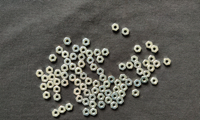nut: (36, 70, 44, 78), (41, 75, 49, 83), (43, 92, 51, 100), (47, 81, 55, 89), (61, 79, 69, 87), (64, 58, 72, 66), (69, 74, 77, 82), (69, 63, 77, 71), (72, 45, 80, 53), (85, 78, 93, 86), (122, 28, 130, 36), (108, 76, 116, 84), (105, 97, 113, 105), (120, 84, 128, 92), (119, 63, 127, 71), (134, 80, 142, 88), (134, 45, 142, 53), (146, 41, 154, 49), (151, 45, 159, 53), (164, 58, 172, 66), (40, 84, 48, 91), (46, 67, 54, 74), (48, 74, 56, 81), (49, 55, 57, 62), (56, 46, 63, 54), (53, 94, 61, 101), (52, 110, 60, 117), (59, 106, 66, 114), (54, 86, 61, 94), (53, 79, 61, 86), (54, 70, 62, 77), (64, 38, 72, 45), (61, 72, 69, 79), (61, 65, 69, 72), (62, 51, 69, 59), (70, 53, 78, 60), (90, 109, 98, 116), (76, 96, 84, 103), (74, 88, 81, 96), (75, 79, 82, 87), (75, 68, 83, 75), (78, 61, 86, 68), (78, 54, 86, 61), (80, 47, 88, 54), (83, 38, 90, 46), (80, 84, 88, 91), (80, 73, 88, 80), (84, 89, 91, 97), (89, 102, 97, 109), (89, 95, 97, 102), (90, 64, 98, 71), (87, 57, 95, 64), (86, 50, 94, 57), (98, 102, 106, 109), (97, 94, 105, 101), (94, 49, 101, 57), (102, 49, 110, 56), (97, 68, 104, 76), (103, 81, 111, 88), (111, 102, 118, 110), (112, 93, 119, 101), (117, 97, 124, 105), (113, 87, 121, 94), (126, 62, 134, 69), (132, 90, 140, 97), (141, 76, 149, 83), (131, 56, 139, 63), (137, 68, 144, 76), (151, 78, 159, 85), (148, 56, 156, 63), (154, 60, 161, 68), (66, 104, 73, 111), (83, 109, 90, 116), (83, 99, 90, 106), (92, 88, 99, 95), (93, 81, 100, 88), (99, 86, 106, 93), (97, 56, 104, 63), (112, 24, 119, 31), (100, 75, 107, 82), (105, 90, 112, 97), (115, 80, 122, 87), (119, 91, 126, 98), (120, 75, 127, 82), (126, 79, 133, 86), (135, 62, 142, 69), (144, 71, 151, 78), (143, 60, 150, 67), (148, 65, 155, 72)
